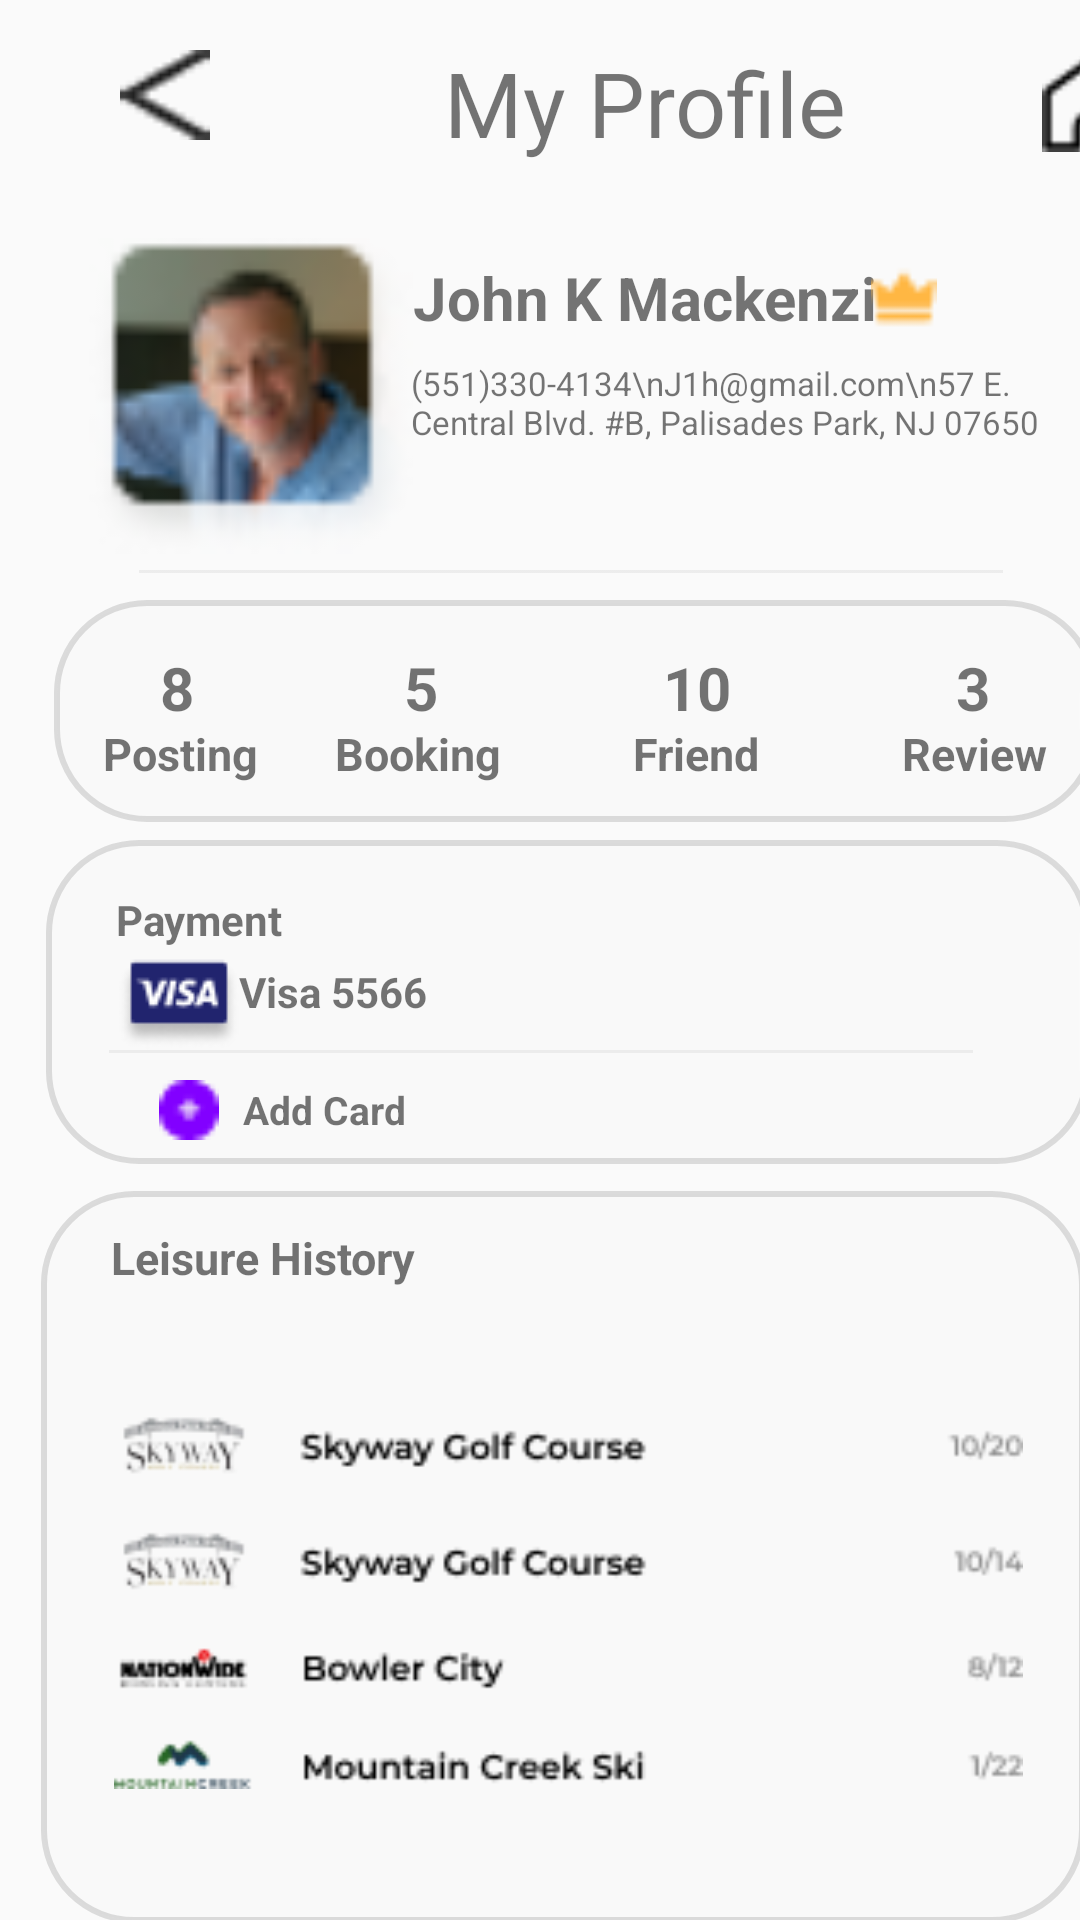

Icon click points for this 1080x1920 phone screenshot, format point (x, y):
crow: point (904, 298)
person: point (243, 377)
plus cir: point (189, 1110)
